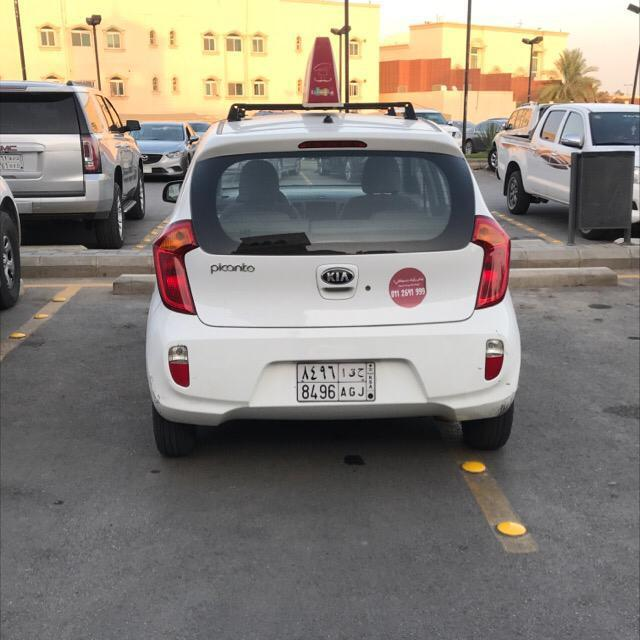license_plate: (294, 361, 375, 402), (0, 154, 23, 171), (143, 168, 152, 174)
